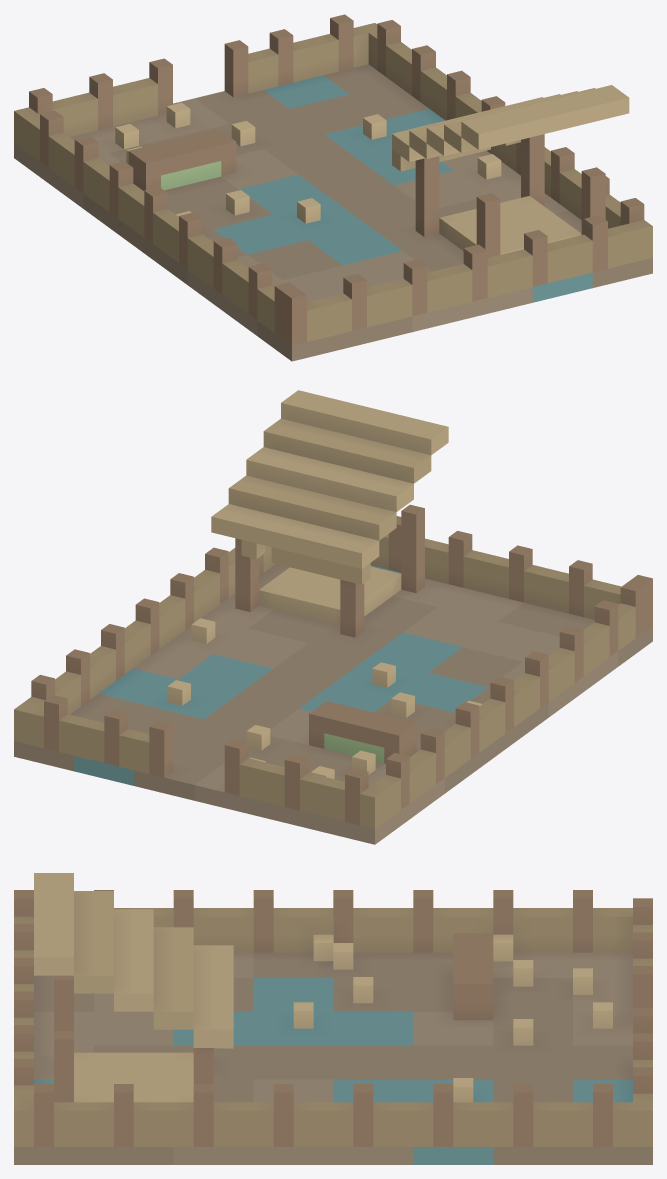
The model's file is pig_pen.glb.
3 renders of one model, top to bottom at view 1: azimuth 30°, elevation 25°; view 2: azimuth 150°, elevation 25°; view 3: azimuth 270°, elevation 25°, orthographic. The views are drawn at different scales.
Parts seen in each view (by area): view 1: pig_pen; view 2: pig_pen; view 3: pig_pen.
Boxes of the visible parts, left/top/right/bottom form: pig_pen: left=14, top=14, right=652, bottom=361; pig_pen: left=14, top=390, right=652, bottom=844; pig_pen: left=14, top=873, right=652, bottom=1164.
Size of the model in its own units: 3 by 1.38 by 4.
